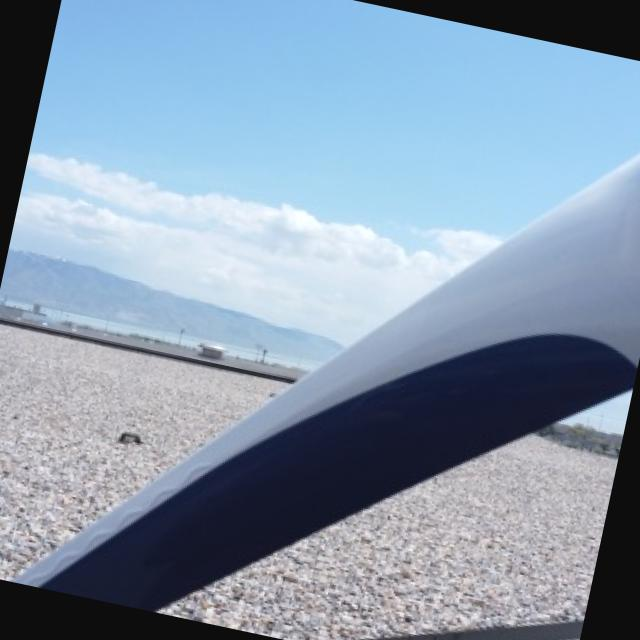healthy: (22, 234, 640, 609)
